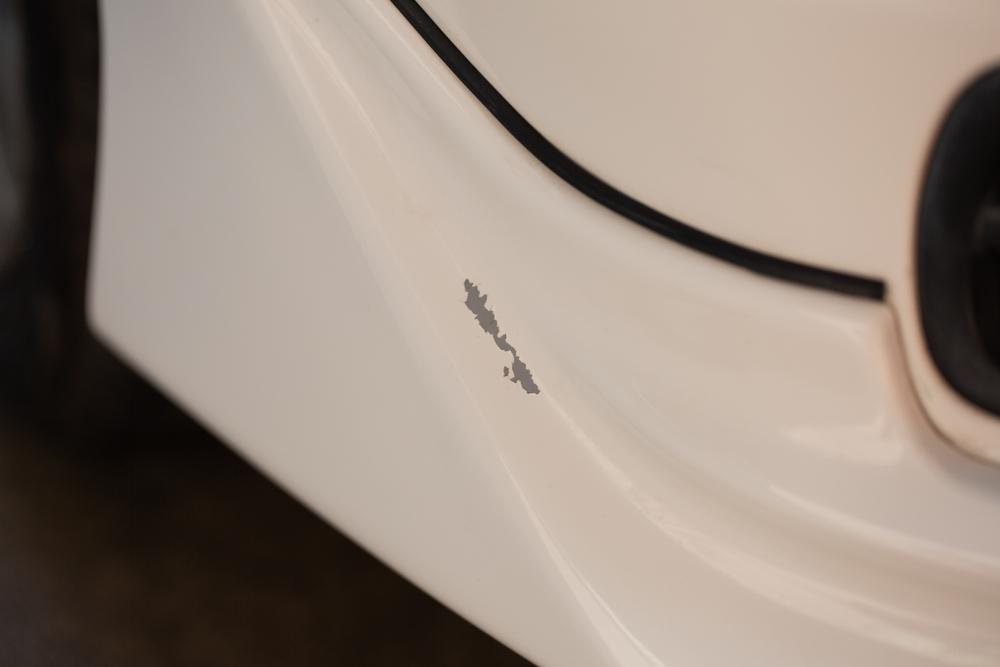scratch: (461, 276, 547, 405)
